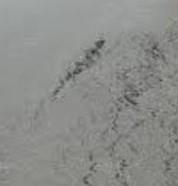crack: (105, 29, 178, 186), (55, 36, 107, 100), (81, 147, 100, 186)
